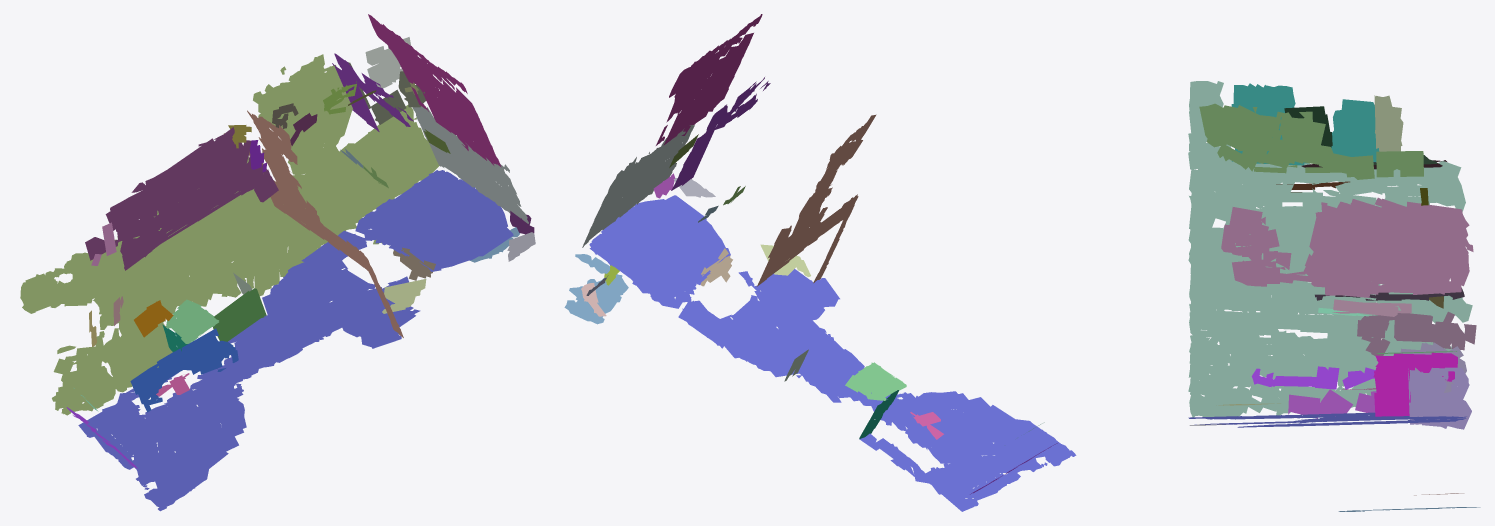
The model's file is scene0046_00_simple.glb.
The picture shows the model from 3 angles, left to right: view 1: azimuth 30°, elevation 25°; view 2: azimuth 150°, elevation 25°; view 3: azimuth 270°, elevation 25°; orthographic projection. The views are drawn at different scales.
Size of the model in its own units: 6.62 by 4.98 by 2.46.
